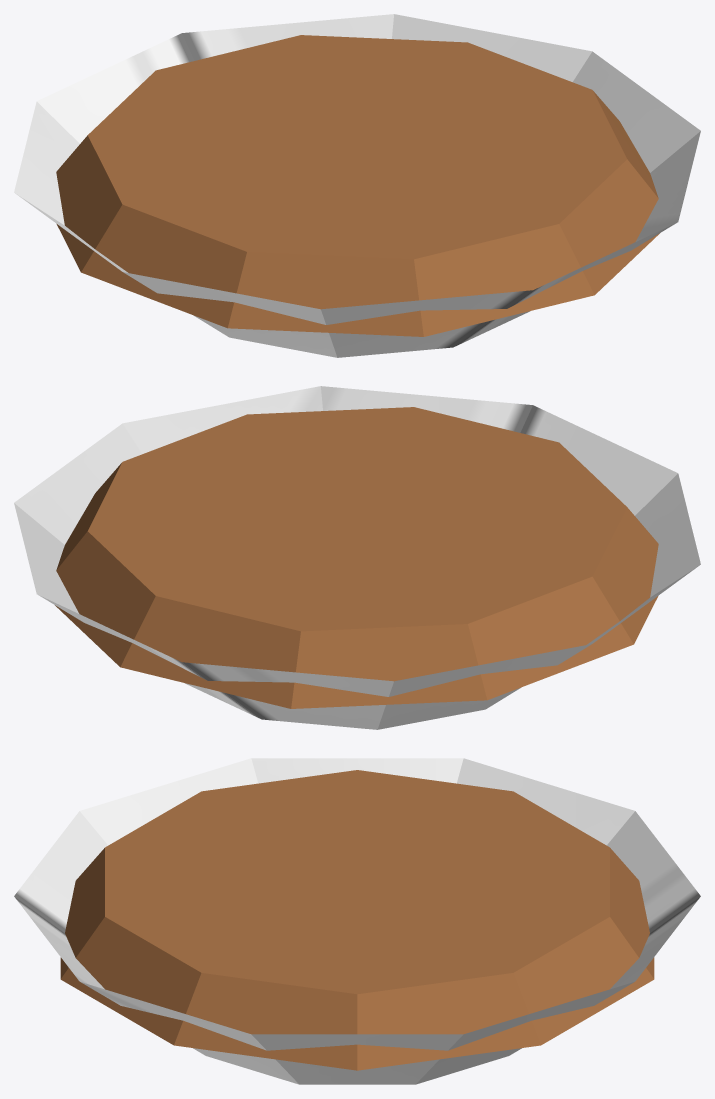
The model's file is meal_simple.obj.
3 views of the same model, one above another, from view 1: azimuth 30°, elevation 25°; view 2: azimuth 150°, elevation 25°; view 3: azimuth 270°, elevation 25° (orthographic). The views are drawn at different scales.
Parts seen in each view (by area): view 1: meal_simple; view 2: meal_simple; view 3: meal_simple.
Boxes of the visible parts, x1,y1,x2,y2 form: meal_simple: [14, 14, 700, 357]; meal_simple: [14, 386, 700, 729]; meal_simple: [14, 758, 700, 1084].
Bounding box in the file's own units: 0.4184 × 0.09 × 0.44.
